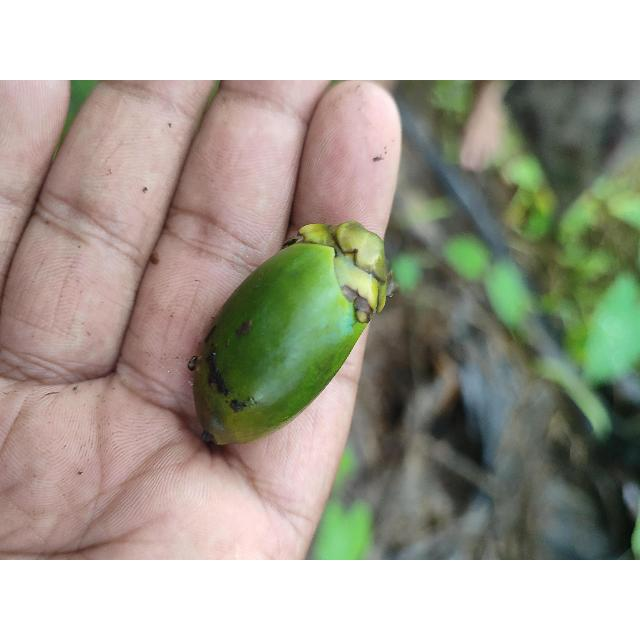good: (189, 223, 393, 448)
